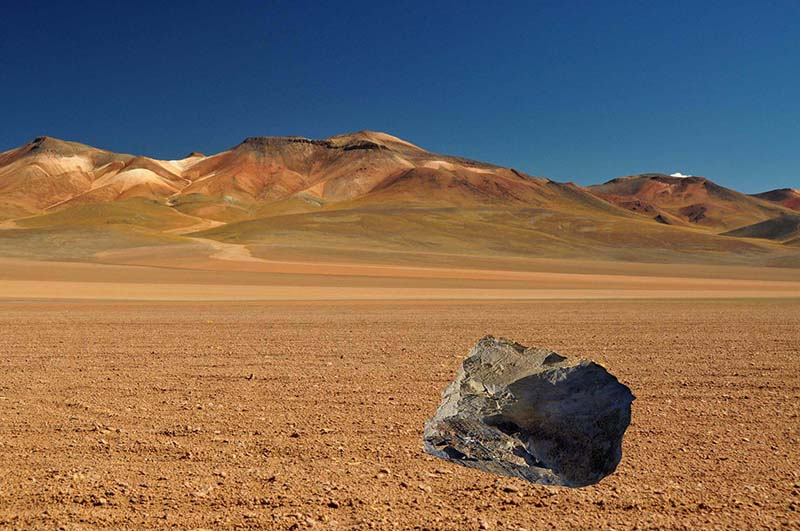Rocks: (422, 328, 637, 493)
